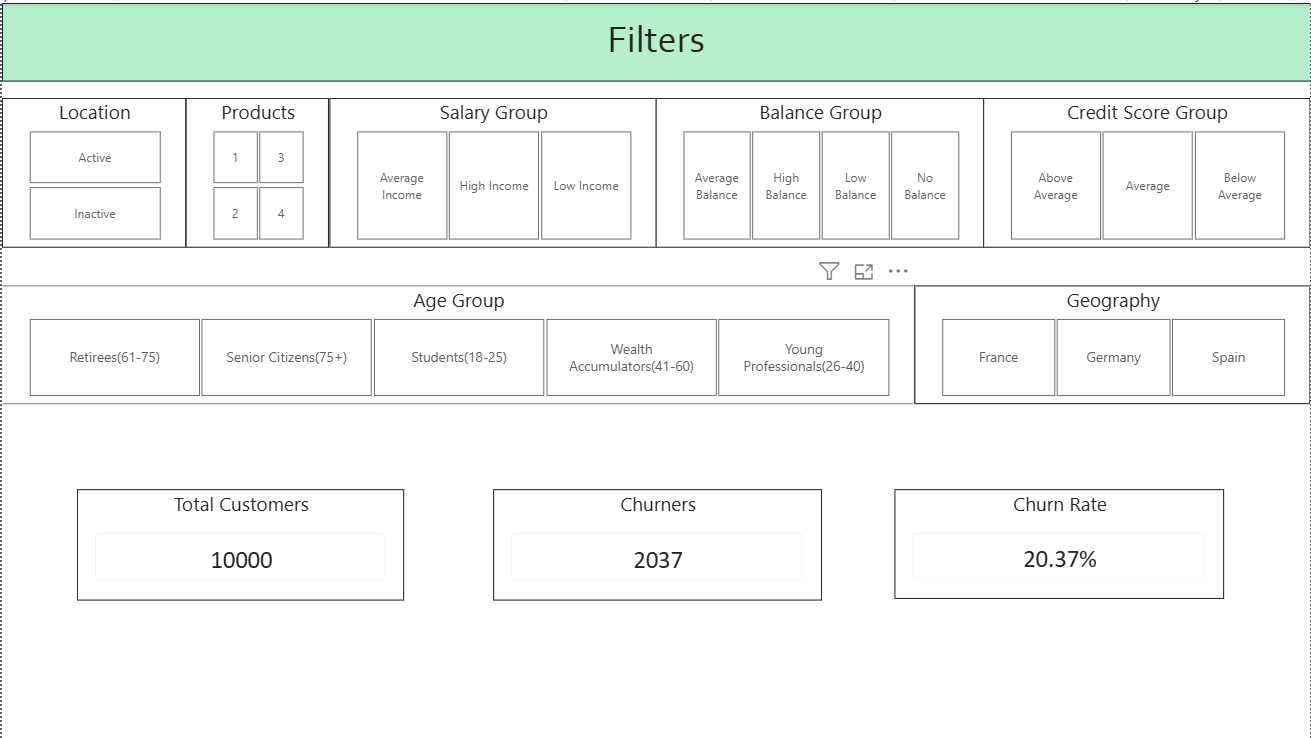

The page's visual inventory and layout, read from the dashboard file:
{"tool":"powerbi","page":{"name":"Filters","canvas":[1280,720],"ordinal":3},"visuals":[{"type":"textbox","box":[0,0,1280.5,76.8],"z":0},{"type":"slicer","title":"Location","fields":{"Values":["Bank_Churn.Activity"]},"box":[0,92.5,180,146.2],"z":1000},{"type":"slicer","title":"Salary Group","fields":{"Values":["Bank_Churn.Salary_Group"]},"box":[320,92.5,320,146.2],"z":2000},{"type":"slicer","title":"Balance Group","fields":{"Values":["Bank_Churn.Balance_Group"]},"box":[640,92.5,321.2,146.2],"z":3000},{"type":"slicer","title":"Credit Score Group","fields":{"Values":["Bank_Churn.Credit_Score_Group"]},"box":[960,92.5,320,146.2],"z":4000},{"type":"slicer","title":"Products","fields":{"Values":["Bank_Churn.Num_Of_Products"]},"box":[180,92.5,140,146.2],"z":5000},{"type":"cardVisual","title":"Total Customers","fields":{"Data":["Measure.Customer_cnt"]},"box":[73.8,476.2,320,108.8],"z":6000},{"type":"cardVisual","title":"Churn Rate","fields":{"Data":["Measure.Churn_Rate"]},"box":[872.5,476.2,322.5,107.5],"z":7000},{"type":"slicer","title":"Age Group","fields":{"Values":["Bank_Churn.Age_Group"]},"box":[0,276.2,892.5,116.2],"z":8000},{"type":"slicer","title":"Geography","fields":{"Values":["Bank_Churn.Geography"]},"box":[892.5,276.2,387.5,116.2],"z":9000},{"type":"cardVisual","title":"Churners","fields":{"Data":["Measuress.Churner_cnt"]},"box":[480,476.2,321.2,108.8],"z":10000}]}

Visuals, with their boxes in screenshot pixels (x1, y1, x2, y2), scaled from the page's 1280x720 canvas onto the 1311x738 screenshot:
textbox: x1=0 y1=0 x2=1310 y2=79
"Location" slicer: x1=0 y1=95 x2=184 y2=245
"Salary Group" slicer: x1=328 y1=95 x2=656 y2=245
"Balance Group" slicer: x1=656 y1=95 x2=984 y2=245
"Credit Score Group" slicer: x1=983 y1=95 x2=1310 y2=245
"Products" slicer: x1=184 y1=95 x2=328 y2=245
"Total Customers" cardVisual: x1=76 y1=488 x2=403 y2=600
"Churn Rate" cardVisual: x1=894 y1=488 x2=1224 y2=598
"Age Group" slicer: x1=0 y1=283 x2=914 y2=402
"Geography" slicer: x1=914 y1=283 x2=1310 y2=402
"Churners" cardVisual: x1=492 y1=488 x2=821 y2=600
